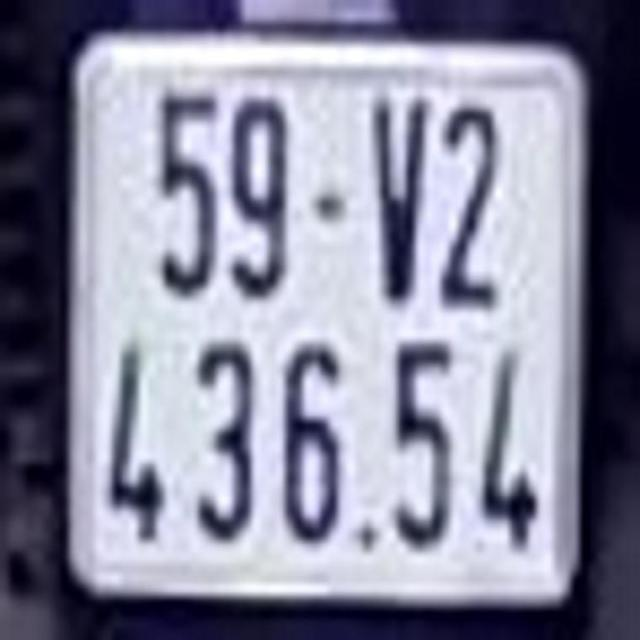2: (433, 100, 498, 308)
3: (193, 335, 250, 536)
4: (106, 340, 168, 540), (476, 338, 530, 554)
5: (386, 332, 449, 546), (159, 88, 219, 298)
6: (280, 324, 338, 542)
9: (229, 98, 285, 301)
V: (364, 88, 422, 303)
